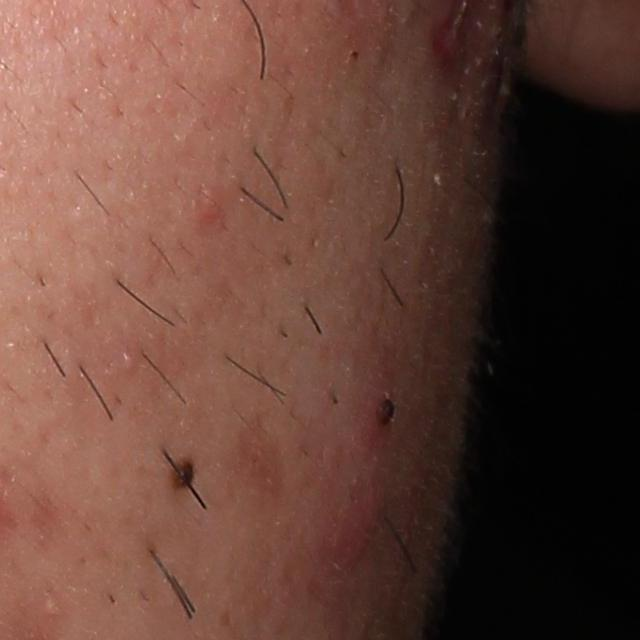nevus: (169, 454, 200, 494)
papule: (330, 491, 386, 573), (190, 184, 227, 234)
